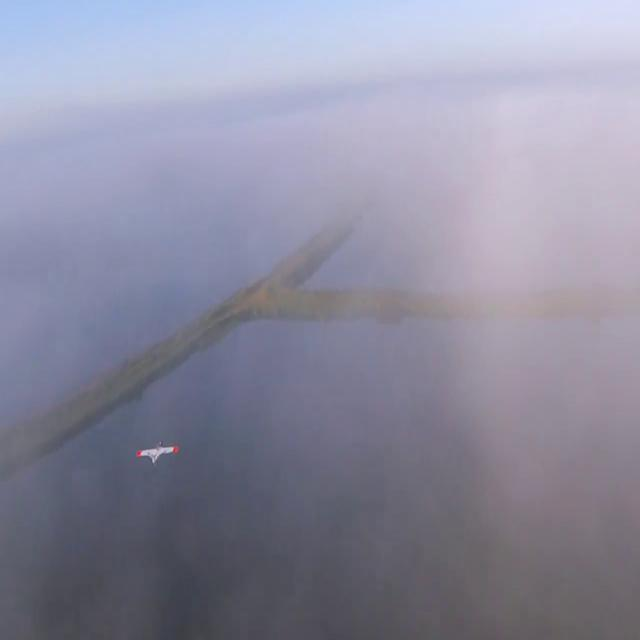iha: (130, 434, 182, 466)
